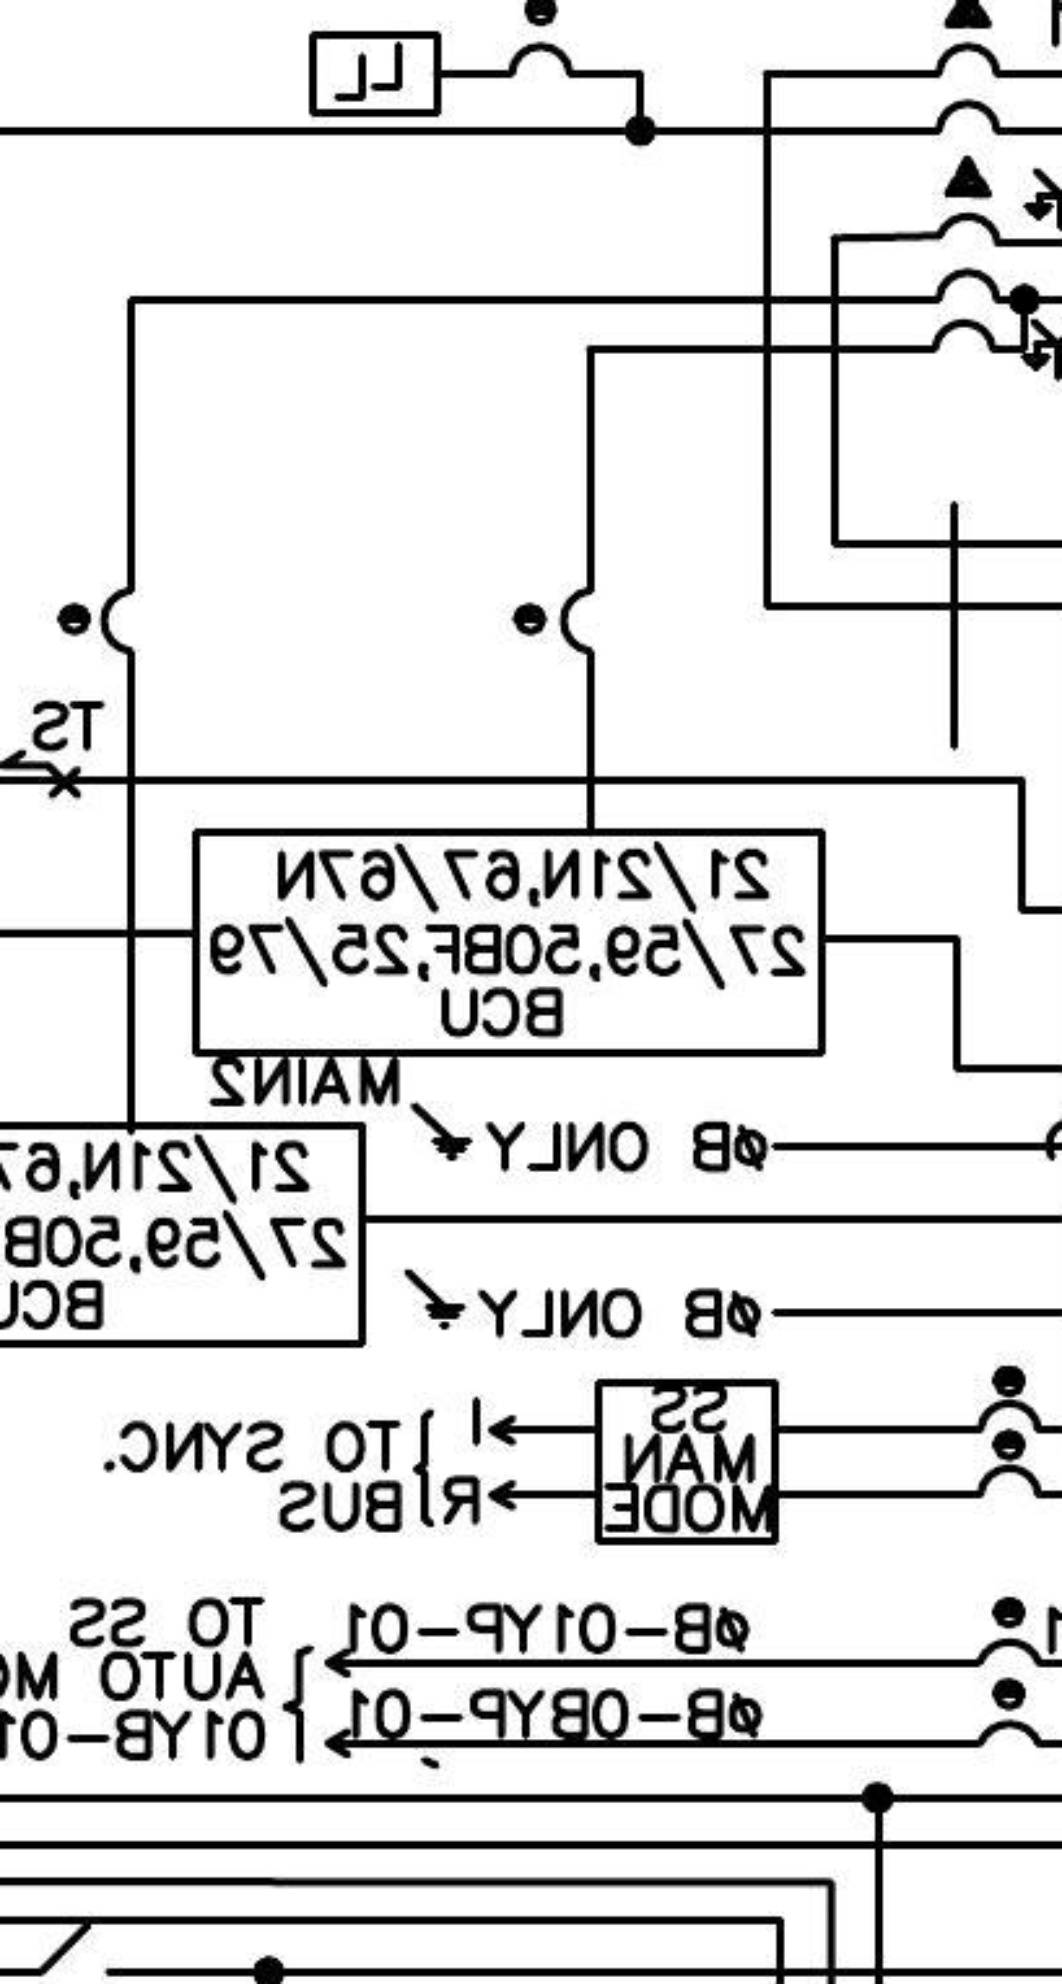115_ds: (38, 1925, 116, 1978)
LL: (306, 29, 444, 119)
ss_man_mode: (591, 1376, 782, 1548)
